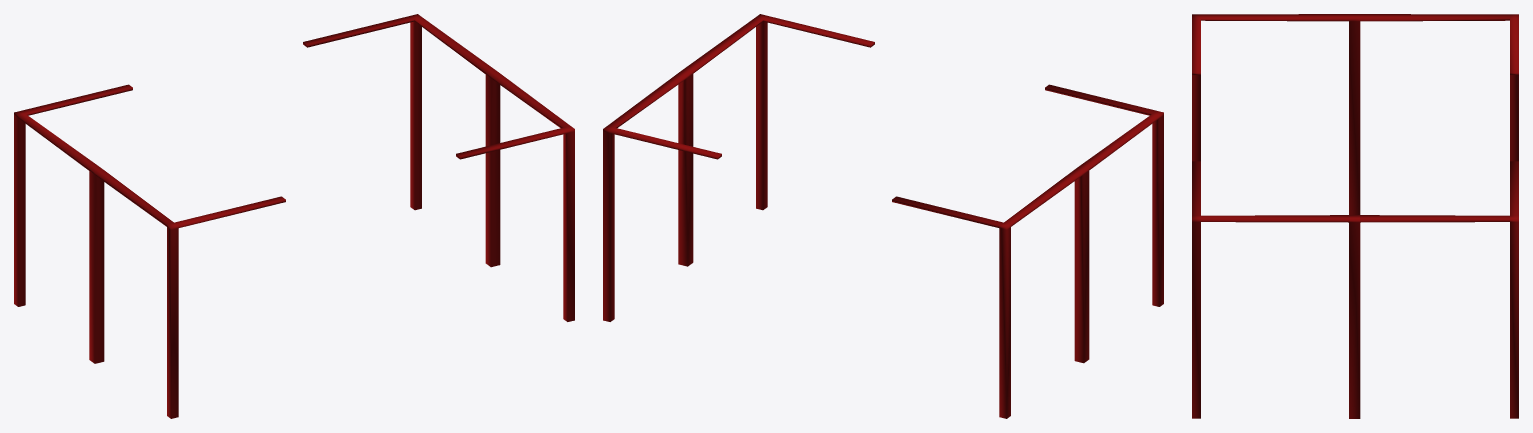
File: pilares.obj
3 views of the same model, side by side, from view 1: azimuth 30°, elevation 25°; view 2: azimuth 150°, elevation 25°; view 3: azimuth 270°, elevation 25° (orthographic). The views are drawn at different scales.
Visible parts, largest first — view 1: Pilares; view 2: Pilares; view 3: Pilares.
Part boxes in pixels (box(x1,y1,x2,y2)): Pilares: box(14, 14, 574, 418); Pilares: box(603, 14, 1163, 418); Pilares: box(1192, 14, 1518, 418).
Bounding box in the file's own units: 259 × 117 × 174.
